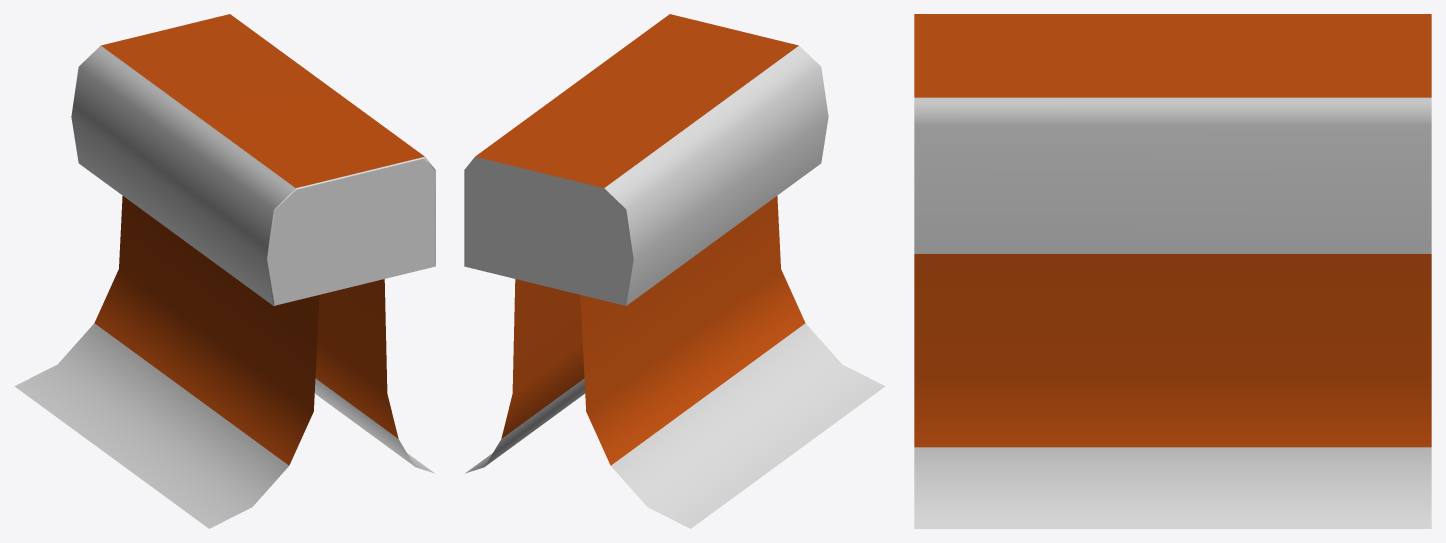
The model's file is bar_straight.fbx.
3 renders of one model, left to right at view 1: azimuth 30°, elevation 25°; view 2: azimuth 150°, elevation 25°; view 3: azimuth 270°, elevation 25°, orthographic. The views are drawn at different scales.
Visible parts, largest first — view 1: bar_straight; view 2: bar_straight; view 3: bar_straight.
Part boxes in pixels (left/top/right/bottom): bar_straight: left=14, top=14, right=435, bottom=528; bar_straight: left=464, top=14, right=885, bottom=528; bar_straight: left=914, top=14, right=1431, bottom=528.
Bounding box in the file's own units: 2 × 2.7 × 2.98.
